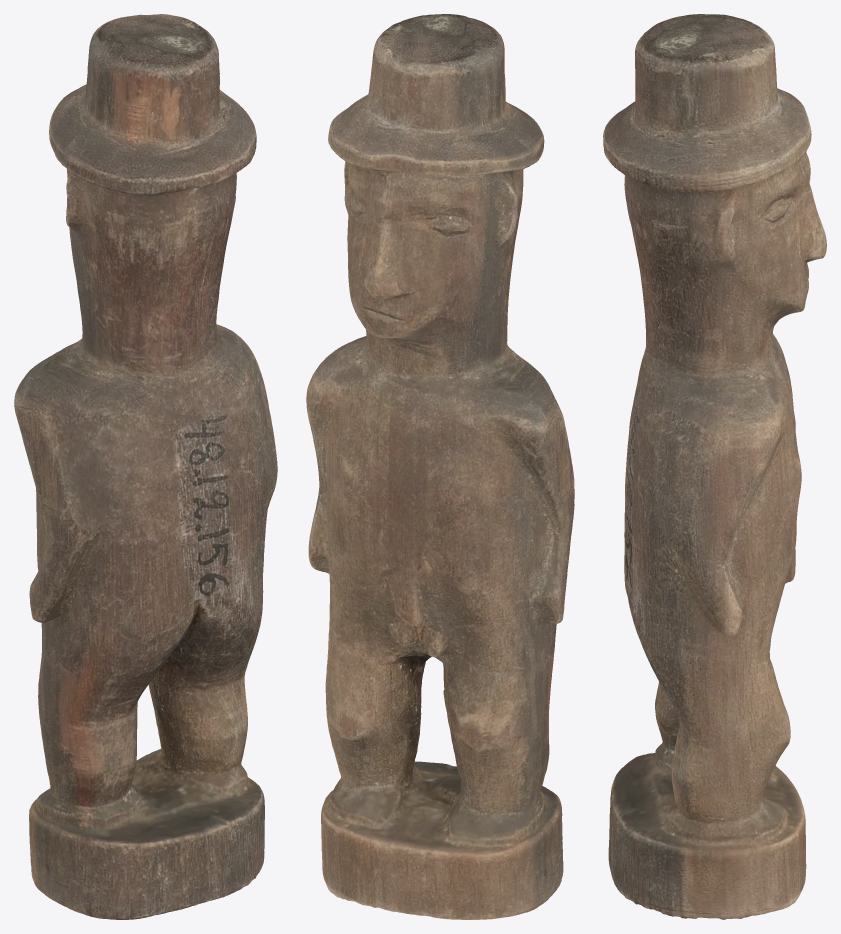
Rendered from preview.glb.
3 views of the same model, side by side, from view 1: azimuth 30°, elevation 25°; view 2: azimuth 150°, elevation 25°; view 3: azimuth 270°, elevation 25° (orthographic).
Visible parts, largest first — view 1: Model_material0_0; view 2: Model_material0_0; view 3: Model_material0_0.
Boxes of the visible parts, <box> form: Model_material0_0: <box>14,14,277,919</box>; Model_material0_0: <box>306,14,574,919</box>; Model_material0_0: <box>603,14,826,919</box>.
Bounding box in the file's own units: 22.71 × 76.85 × 18.49.
1 material, 1 textured.
